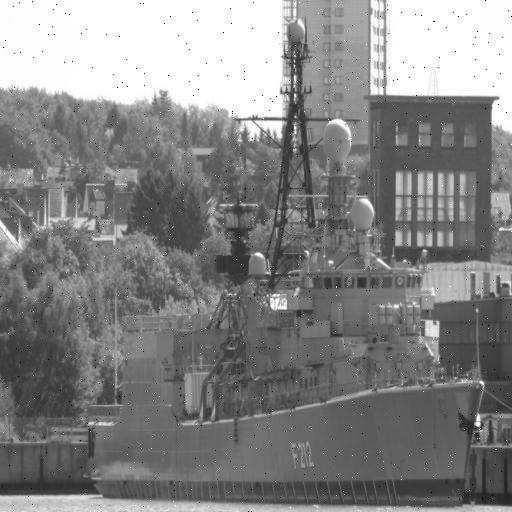Fragata: (89, 1, 491, 506)
